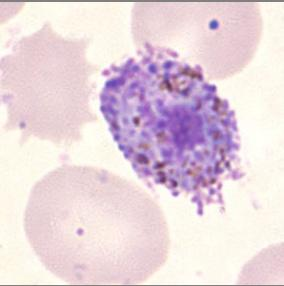Infected: (92, 40, 254, 214)
Uninfected: (23, 165, 172, 286), (0, 23, 102, 146)
